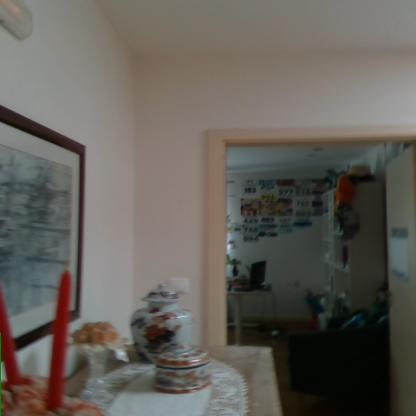open: (194, 121, 415, 415)
